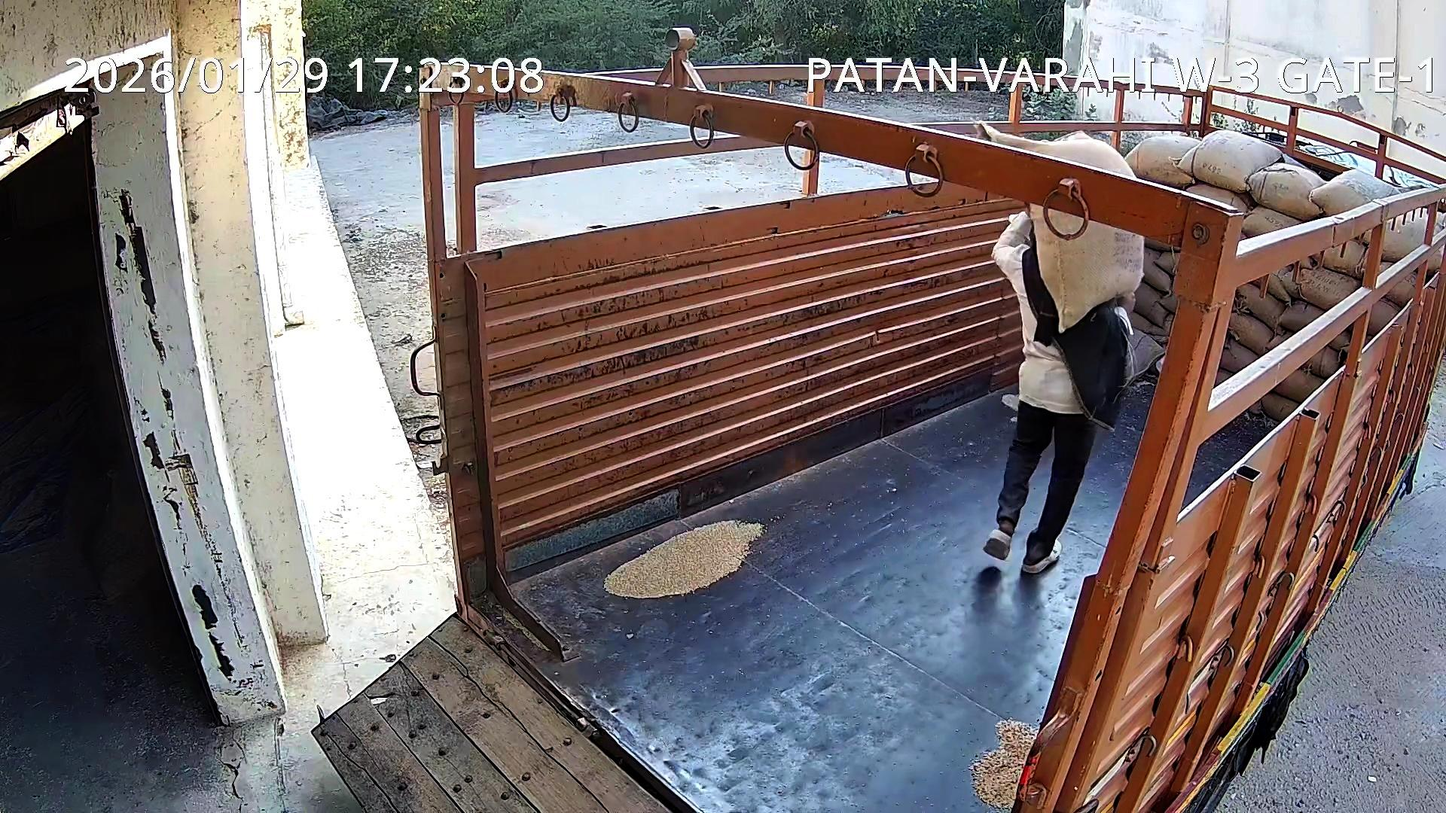Sack: (1027, 197, 1143, 326), (982, 125, 1135, 178)
